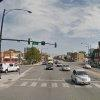Crosswalk: (6, 74, 69, 98)
